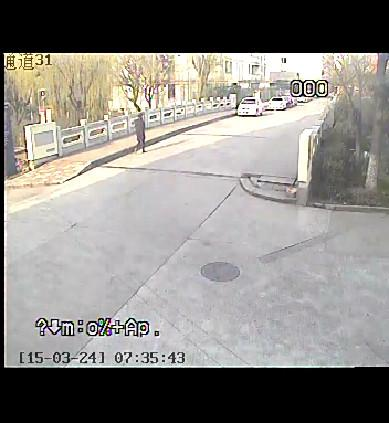person: (123, 104, 154, 157)
